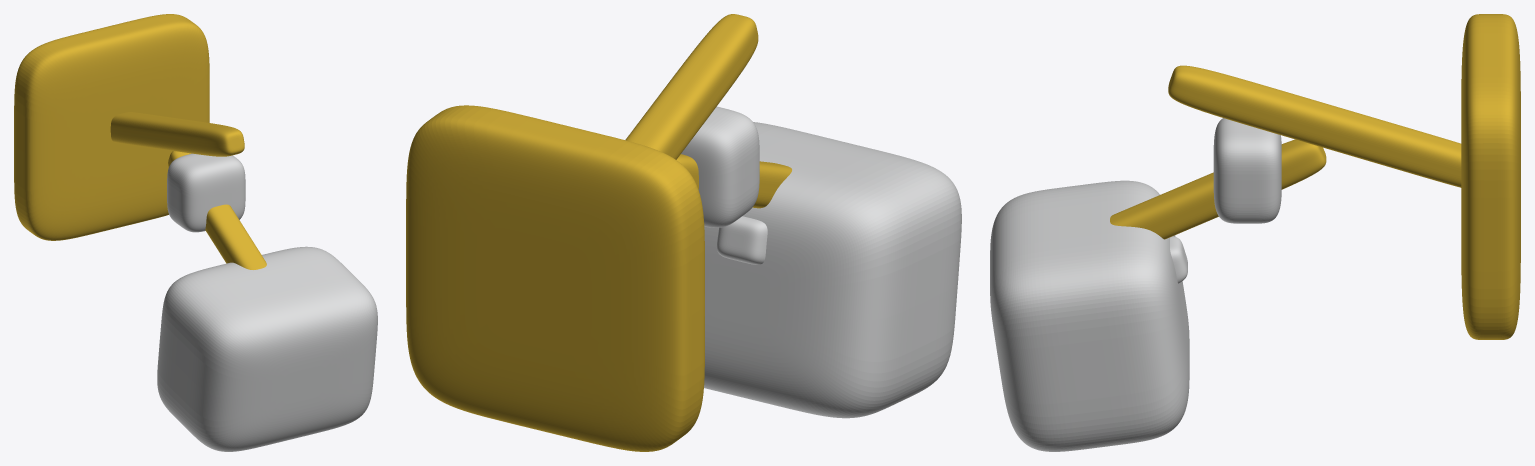
The model's file is desk_lamp_sq.glb.
3 views of the same model, side by side, from view 1: azimuth 30°, elevation 25°; view 2: azimuth 150°, elevation 25°; view 3: azimuth 270°, elevation 25° (orthographic). The views are drawn at different scales.
Visible parts, largest first — view 1: superquadric_3, superquadric_0, superquadric_4, superquadric_1, superquadric_2; view 2: superquadric_0, superquadric_3, superquadric_1, superquadric_4, superquadric_5, superquadric_2; view 3: superquadric_3, superquadric_0, superquadric_1, superquadric_4, superquadric_2, superquadric_5.
Part boxes in pixels (x1,y1,x2,y2): superquadric_3: [157, 246, 377, 451]; superquadric_0: [14, 14, 209, 240]; superquadric_4: [167, 153, 245, 232]; superquadric_1: [110, 112, 244, 156]; superquadric_2: [168, 151, 266, 269]; superquadric_0: [406, 105, 704, 451]; superquadric_3: [704, 122, 961, 418]; superquadric_1: [625, 14, 758, 159]; superquadric_4: [681, 106, 759, 227]; superquadric_5: [716, 216, 767, 264]; superquadric_2: [676, 154, 791, 208]; superquadric_3: [990, 180, 1189, 451]; superquadric_0: [1461, 14, 1520, 339]; superquadric_1: [1168, 65, 1461, 187]; superquadric_4: [1213, 118, 1281, 223]; superquadric_2: [1110, 139, 1326, 239]; superquadric_5: [1170, 236, 1187, 283].
Size of the model in its own units: 0.5145 by 0.749 by 1.
